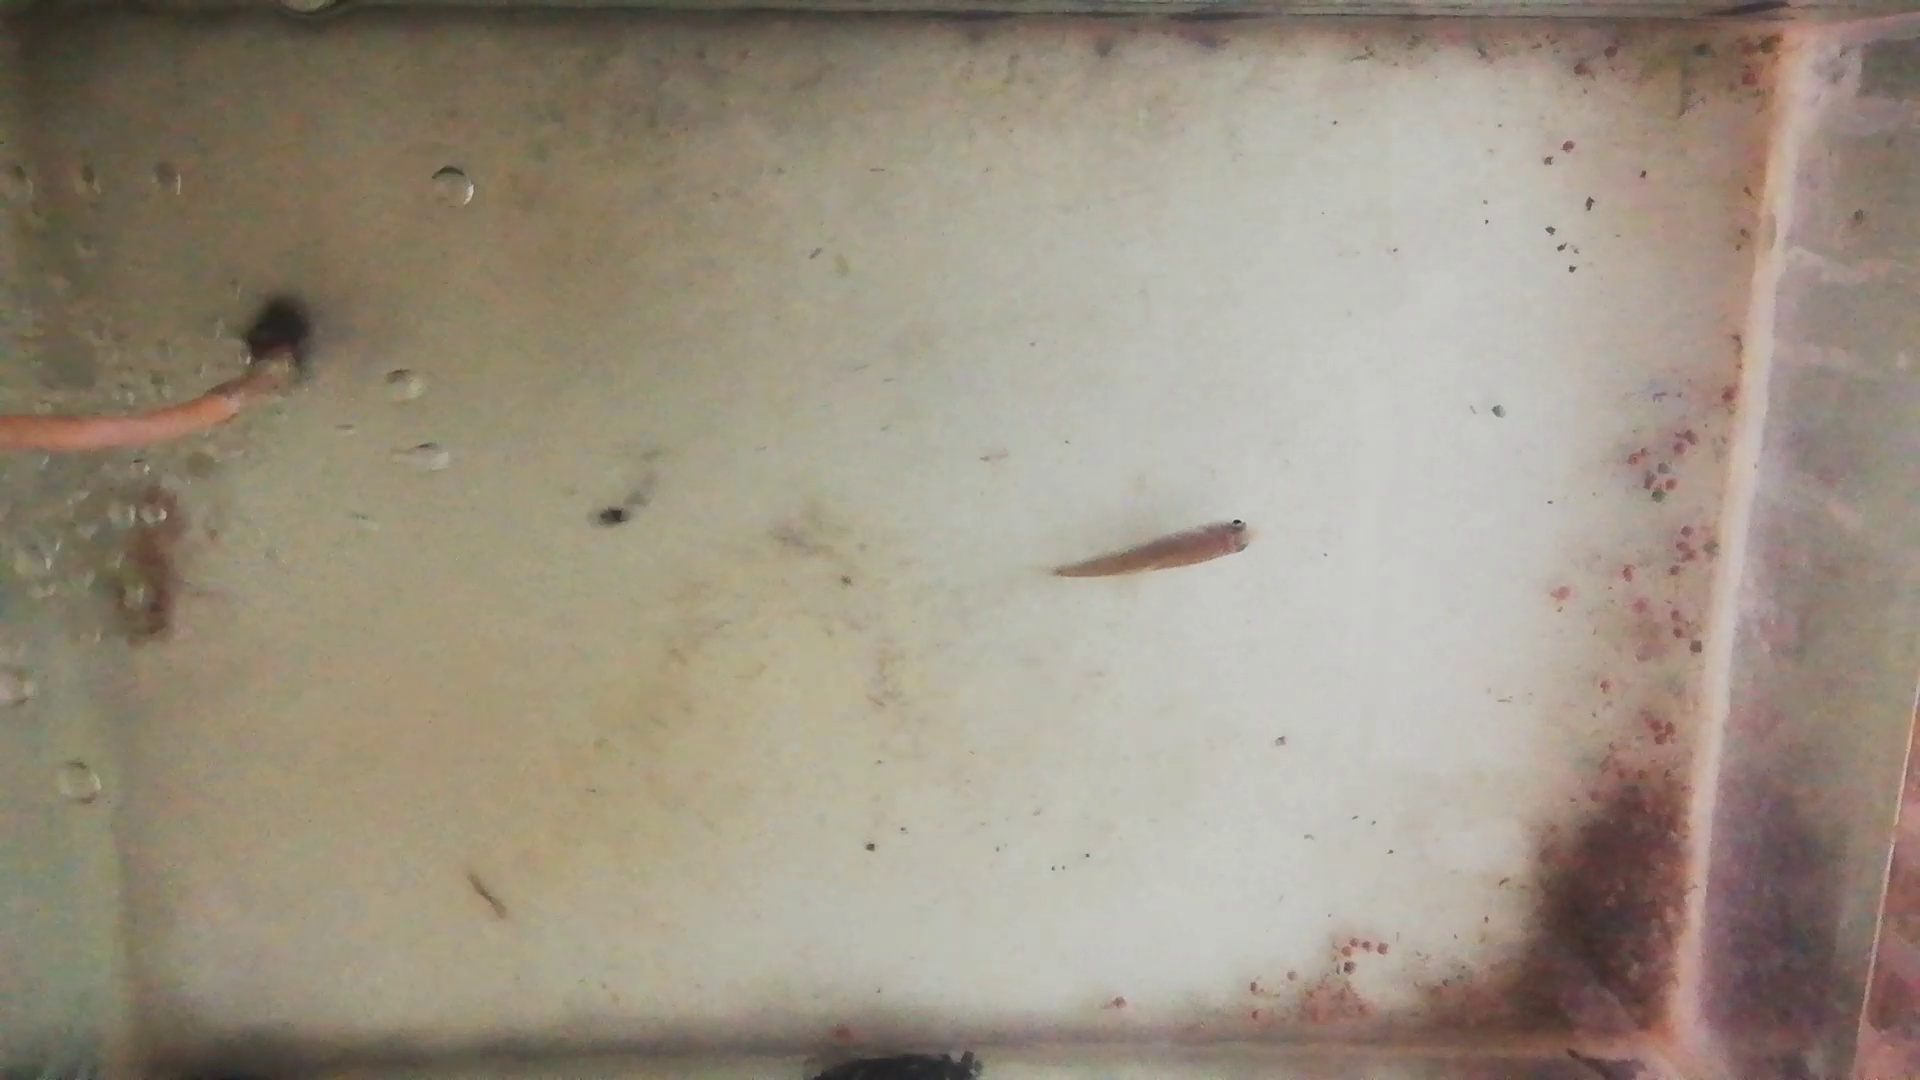fish: (1052, 517, 1261, 582), (127, 473, 183, 651)
